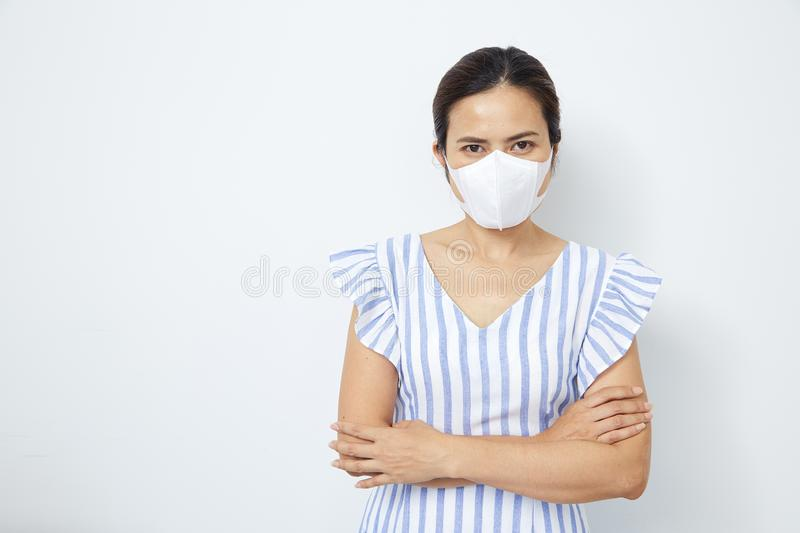mask: (443, 154, 558, 230)
